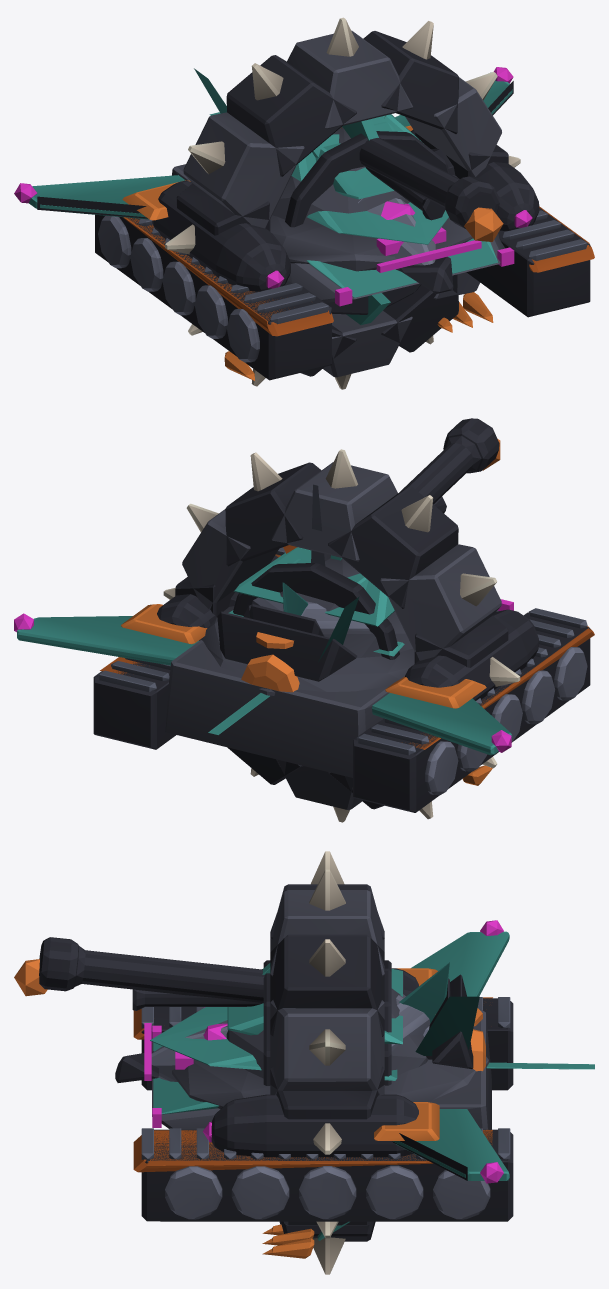
Rendered from enemies2.glb.
The picture shows the model from 3 angles, top to bottom: view 1: azimuth 30°, elevation 25°; view 2: azimuth 150°, elevation 25°; view 3: azimuth 270°, elevation 25°; orthographic projection. The views are drawn at different scales.
Parts seen in each view (by area): view 1: grinder_wheel_body, tank_body, skimmer_body, raptor_body, hopper_body, tank_glow, bolas_pod_body, skimmer_glow, raptor_glow; view 2: tank_body, grinder_wheel_body, raptor_body, skimmer_body, hopper_body, raptor_glow, bolas_pod_body; view 3: tank_body, grinder_wheel_body, skimmer_body, raptor_body, hopper_body, tank_glow, raptor_glow, bolas_pod_body.
Part boxes in pixels (left/top/right/bottom): grinder_wheel_body: left=165, top=17, right=520, bottom=389; tank_body: left=95, top=122, right=594, bottom=380; skimmer_body: left=152, top=129, right=539, bottom=293; raptor_body: left=29, top=68, right=513, bottom=271; hopper_body: left=224, top=114, right=493, bottom=380; tank_glow: left=335, top=207, right=514, bottom=306; bolas_pod_body: left=209, top=112, right=455, bottom=324; skimmer_glow: left=266, top=210, right=532, bottom=288; raptor_glow: left=14, top=67, right=513, bottom=203; tank_body: left=93, top=418, right=594, bottom=812; grinder_wheel_body: left=163, top=449, right=520, bottom=822; raptor_body: left=17, top=596, right=512, bottom=755; skimmer_body: left=157, top=555, right=538, bottom=700; hopper_body: left=234, top=496, right=492, bottom=785; raptor_glow: left=14, top=613, right=511, bottom=752; bolas_pod_body: left=208, top=553, right=359, bottom=734; tank_body: left=39, top=937, right=513, bottom=1221; grinder_wheel_body: left=263, top=851, right=391, bottom=1274; skimmer_body: left=115, top=962, right=488, bottom=1157; raptor_body: left=151, top=931, right=509, bottom=1180; hopper_body: left=132, top=969, right=451, bottom=1258; tank_glow: left=14, top=959, right=161, bottom=1127; raptor_glow: left=470, top=920, right=503, bottom=1183; bolas_pod_body: left=262, top=963, right=594, bottom=1069.
Bounding box in the file's own units: 9.76 × 6.97 × 9.54.
